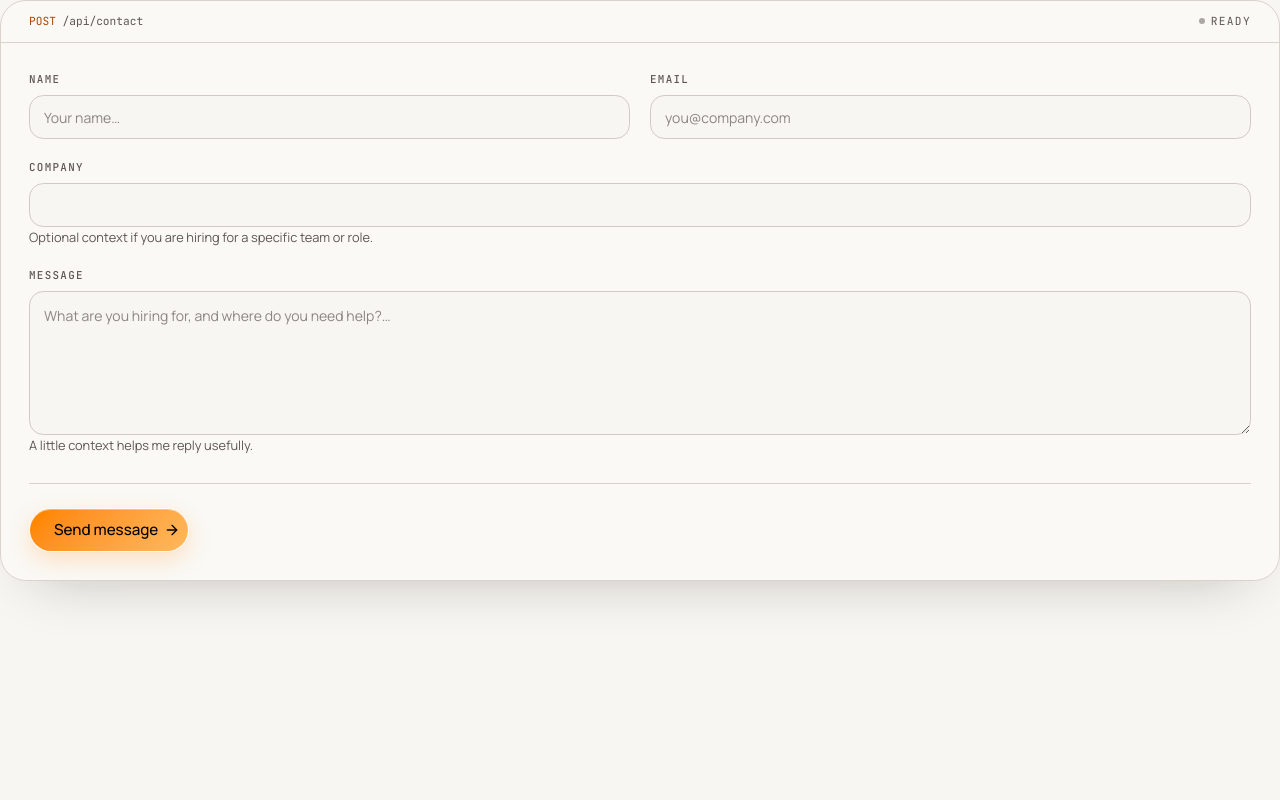
Test case: ContactForm › shows an inline success panel after a successful submission
This screenshot has width=1280, height=800.
In the field labelled "Name": {"x": 330, "y": 117} [29,95,630,139], type "James Cadena"
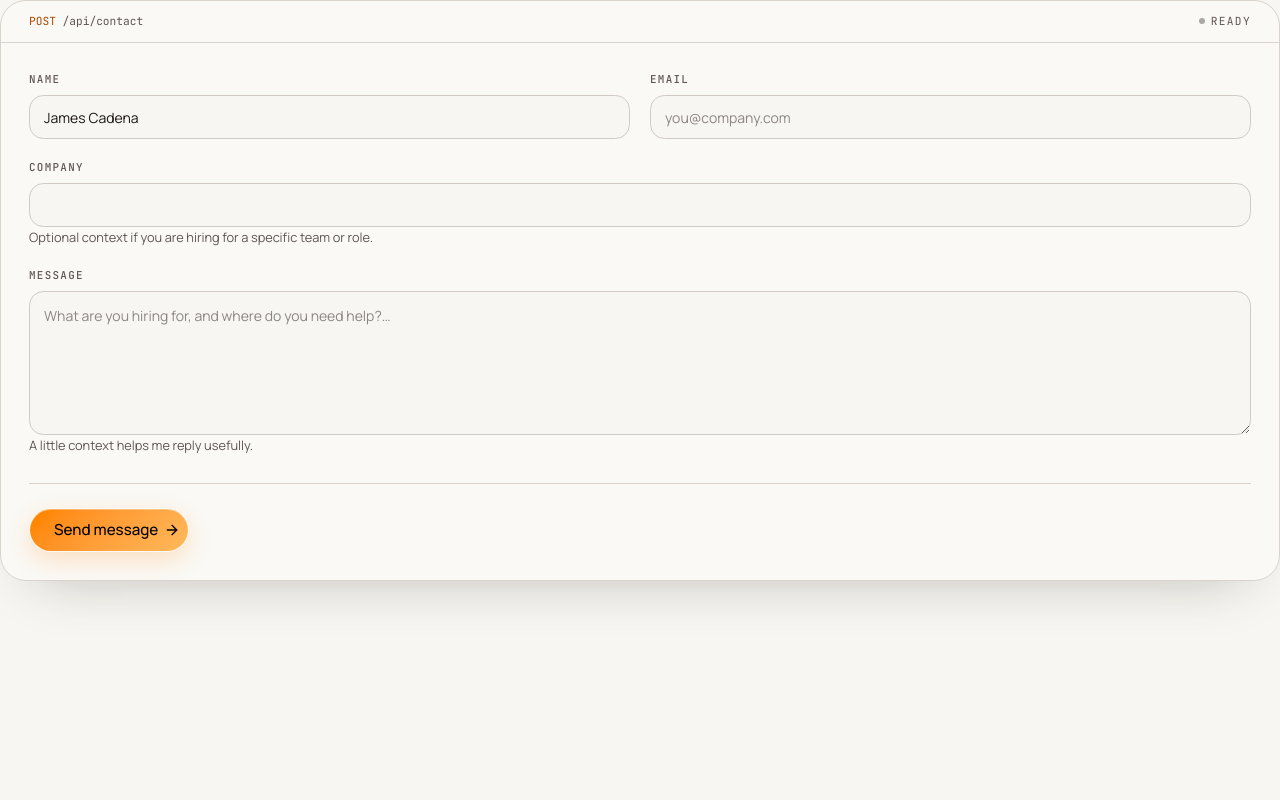
In the field labelled "Email": {"x": 950, "y": 117} [650,95,1251,139], type "james@example.com"
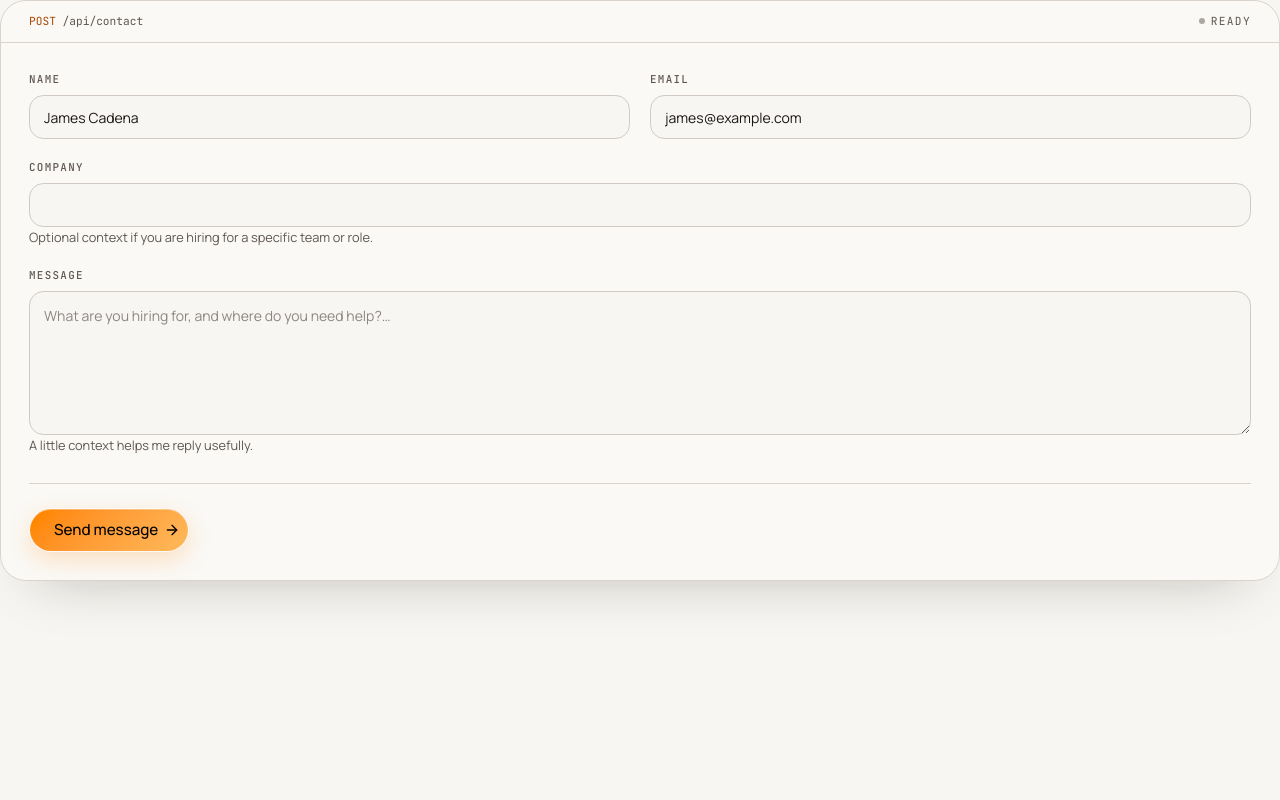
In the text box labelled "Message": {"x": 640, "y": 363} [29,291,1251,435], type "I would like to discuss a role focused on secure infrastructure."
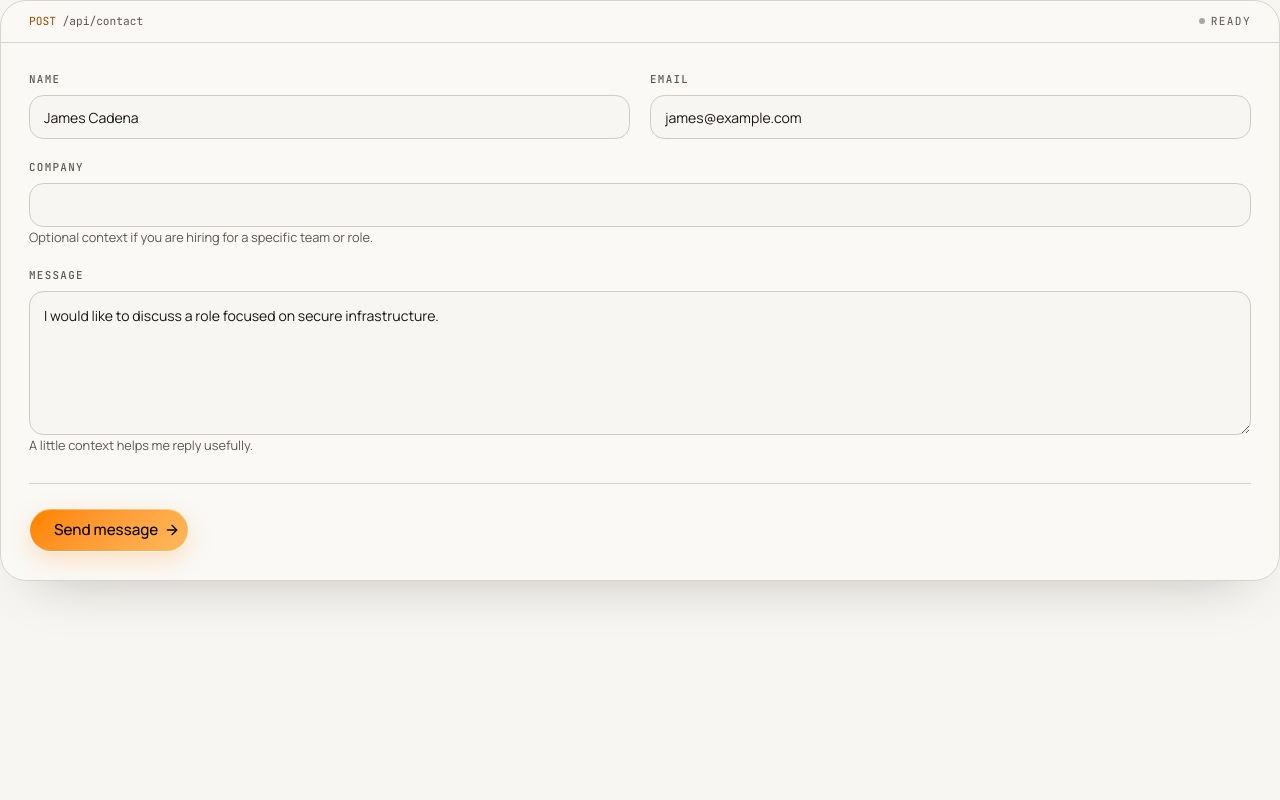
Submit the form named "send message"
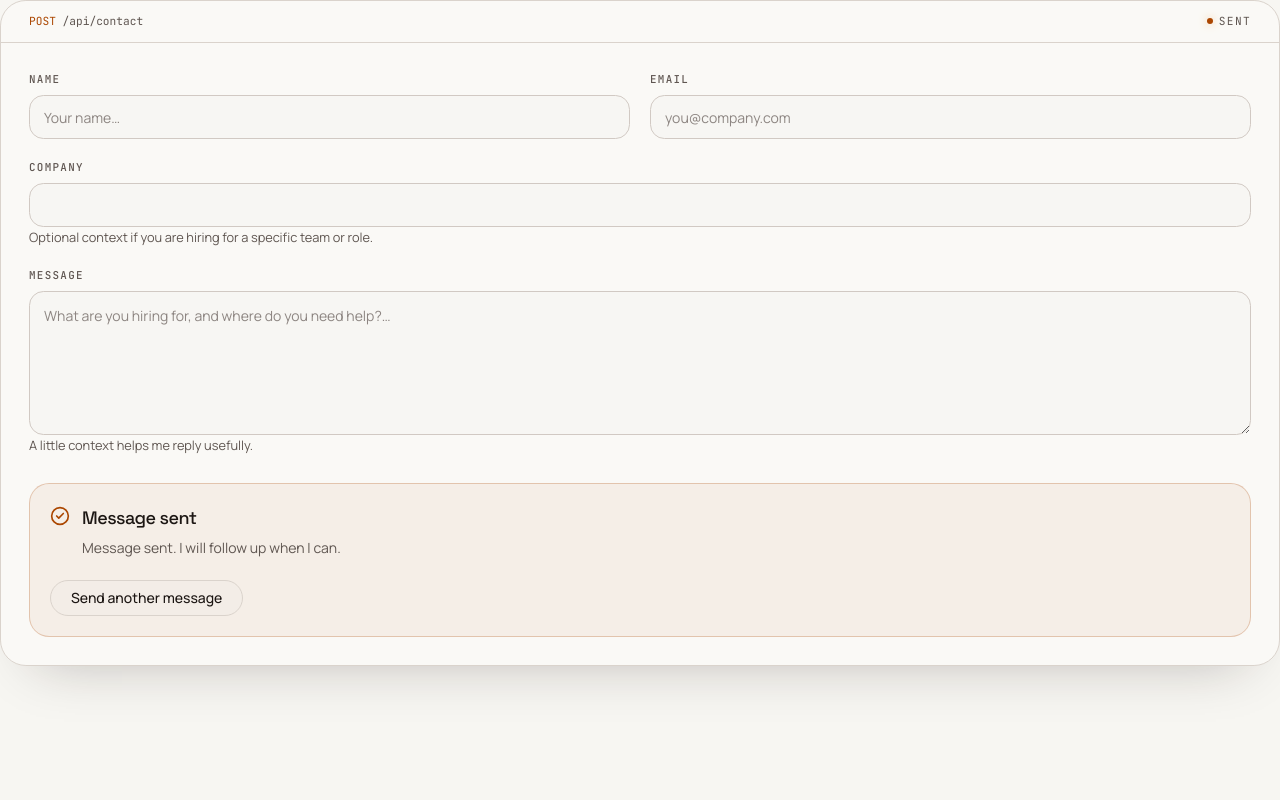
Check: the heading "Message sent" is shown, box [82,506,196,529]
Check: the text "Message sent. I will follow up when I can." is shown, box [82,536,341,560]
